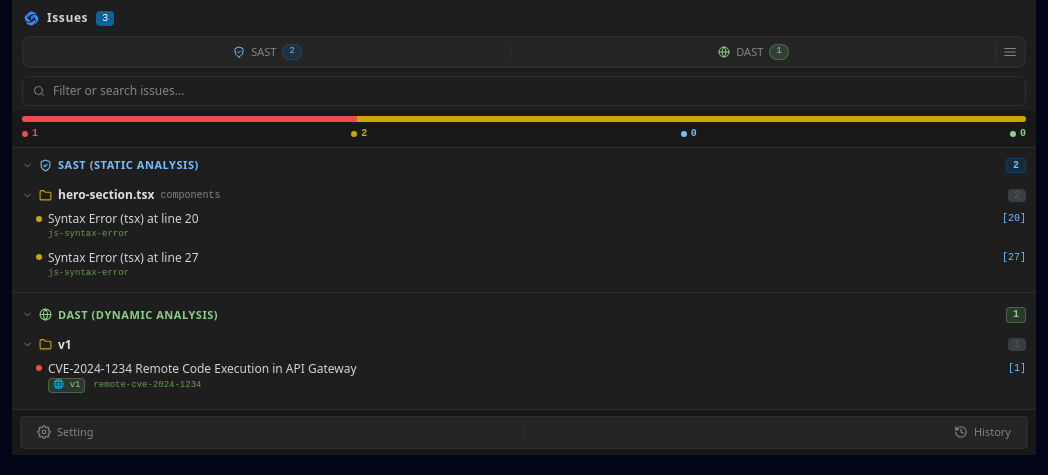
Test: IssueTreeSidebar › switches grouping mode to By Severity when selected
# Open ≡ menu
Click the button titled "Issues Menu (Scan Modes, Grouping, Actions)".
click(1010, 52)  # box [997,39,1023,65]
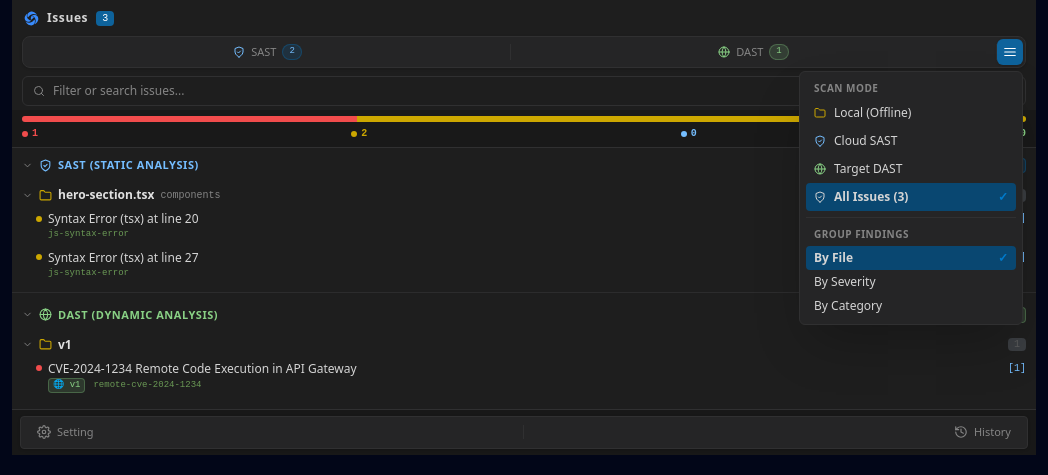
# Select By Severity
Click the button "By Severity".
click(911, 282)  # box [806,270,1016,294]
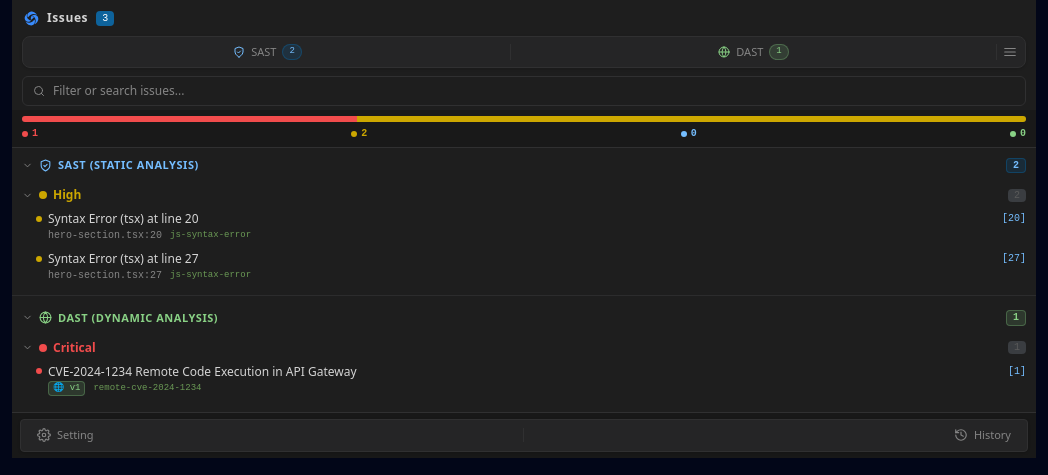
Now the text "High" is shown, box [53,187,81,203]
Now the text "Critical" is shown, box [53,340,96,356]
